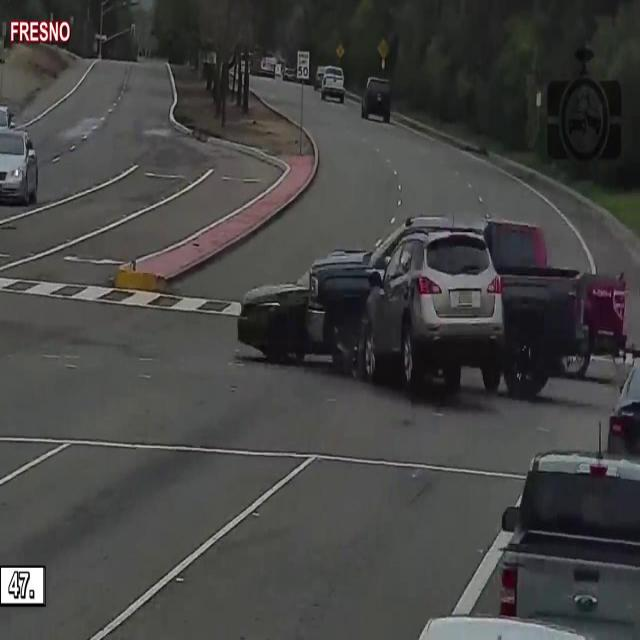accident: (225, 191, 581, 429)
